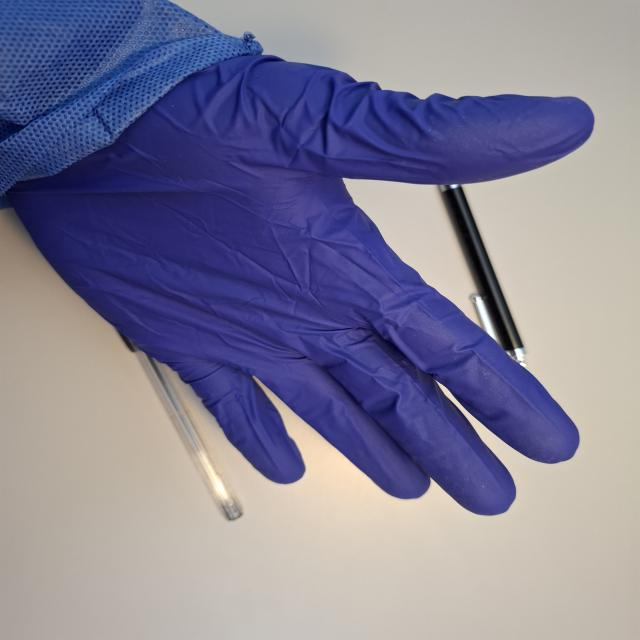glove_on: (6, 41, 597, 518)
